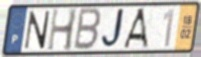1: (162, 8, 176, 48)
A: (122, 7, 150, 50)
B: (72, 7, 104, 52)
H: (46, 7, 79, 53)
J: (100, 7, 128, 51)
N: (23, 10, 52, 51)
